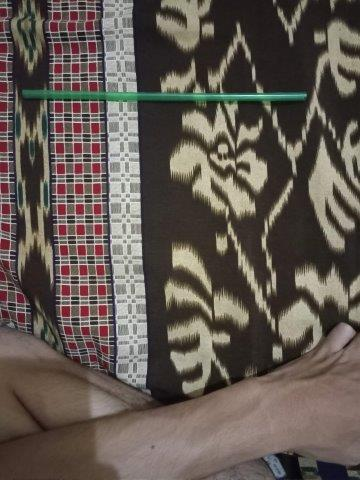sedotan: (22, 90, 307, 101)
